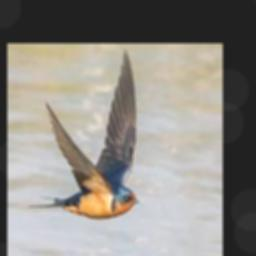Swallow: (29, 48, 140, 218)
